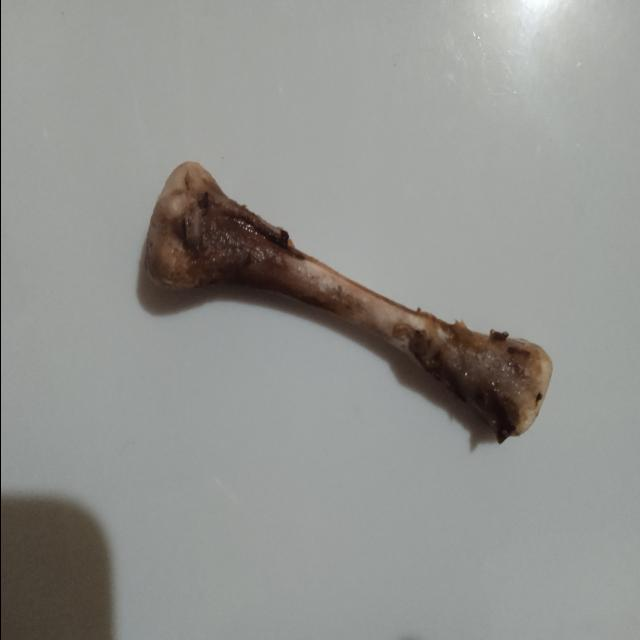bone: (132, 154, 558, 448)
